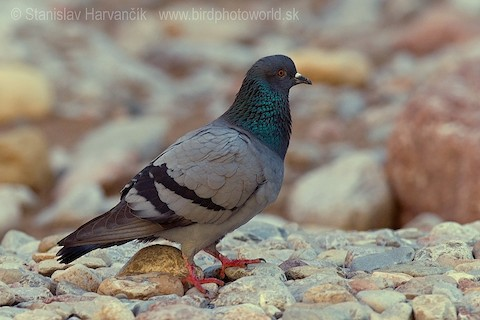pigeon: (57, 53, 316, 294)
